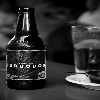beer: (7, 6, 58, 93)
